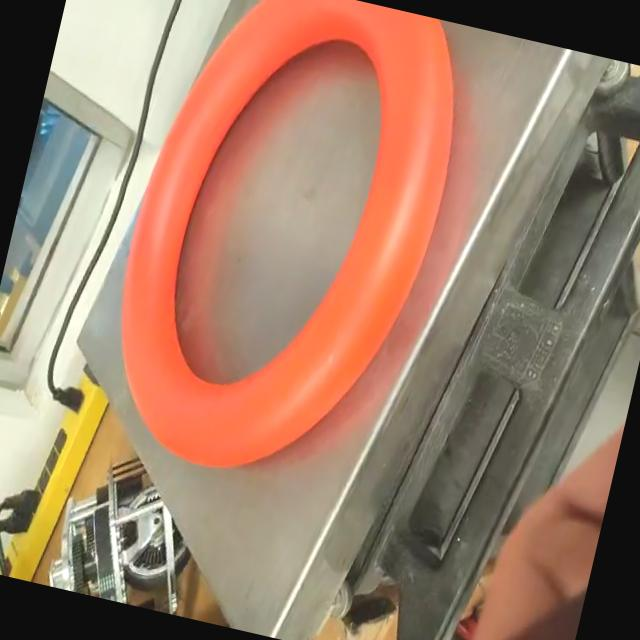note: (80, 0, 488, 516)
